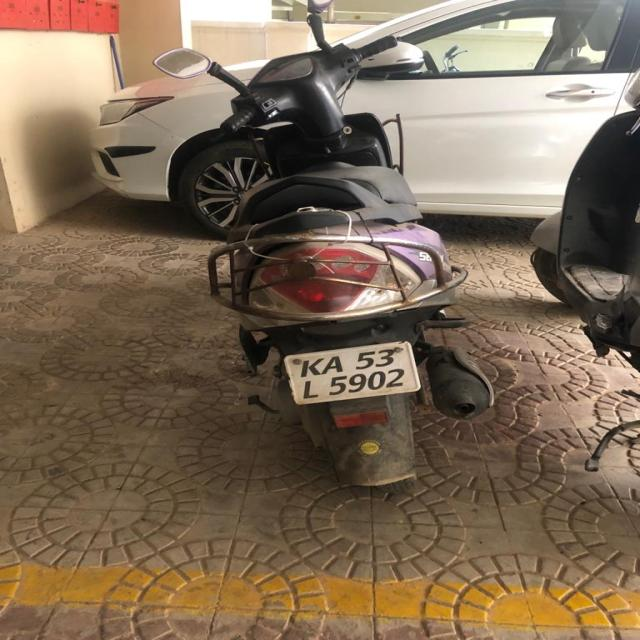license_plate: (282, 340, 422, 405)
